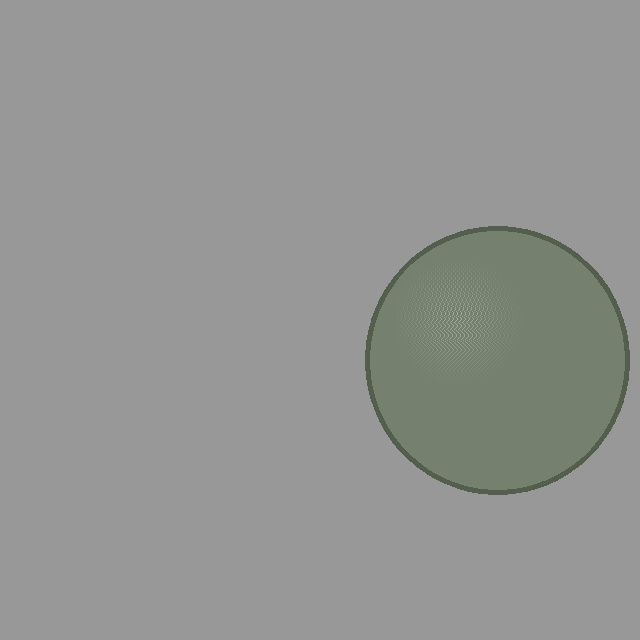lens: (367, 228, 627, 492)
